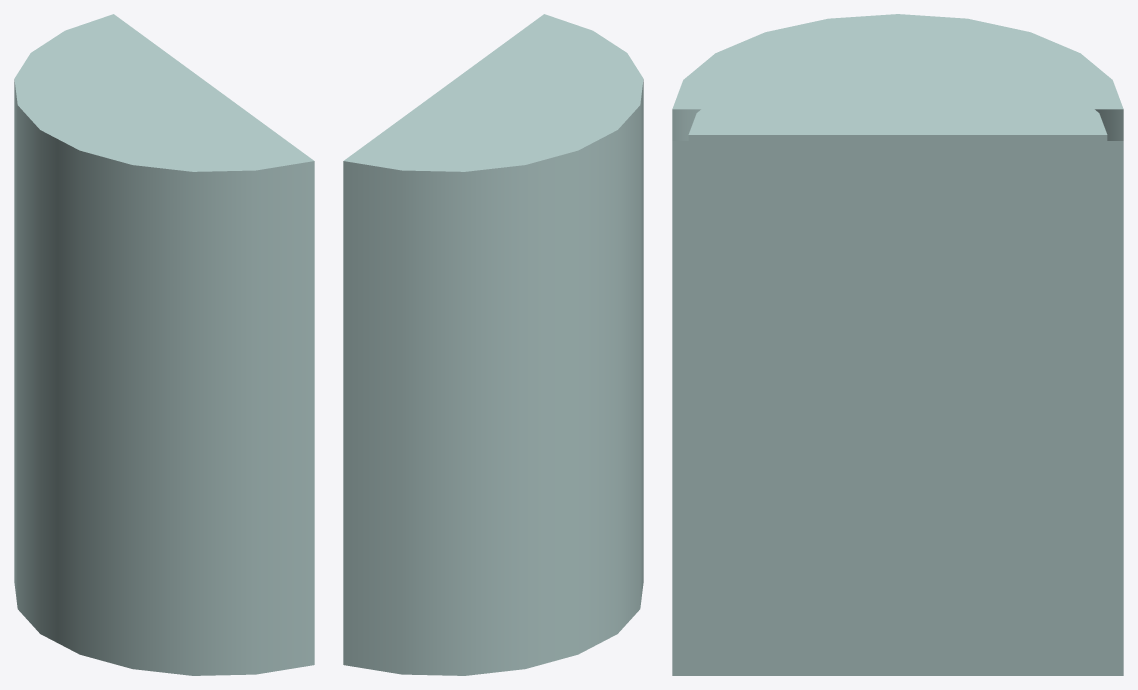
The model's file is CounterRound02Blue.fbx.
3 renders of one model, left to right at view 1: azimuth 30°, elevation 25°; view 2: azimuth 150°, elevation 25°; view 3: azimuth 270°, elevation 25°, orthographic. The views are drawn at different scales.
Parts seen in each view (by area): view 1: pasted__pCylinder1; view 2: pasted__pCylinder1; view 3: pasted__pCylinder1.
Part boxes in pixels (<box>): pasted__pCylinder1: <box>14,14,314,675</box>; pasted__pCylinder1: <box>343,14,643,675</box>; pasted__pCylinder1: <box>672,14,1123,675</box>.
Bounding box in the file's own units: 325 × 900 × 650.
